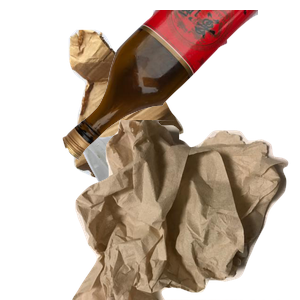cardboard: (66, 27, 242, 197)
glass: (60, 10, 300, 163)
plastic: (80, 120, 289, 300)
trash: (70, 120, 300, 300)
